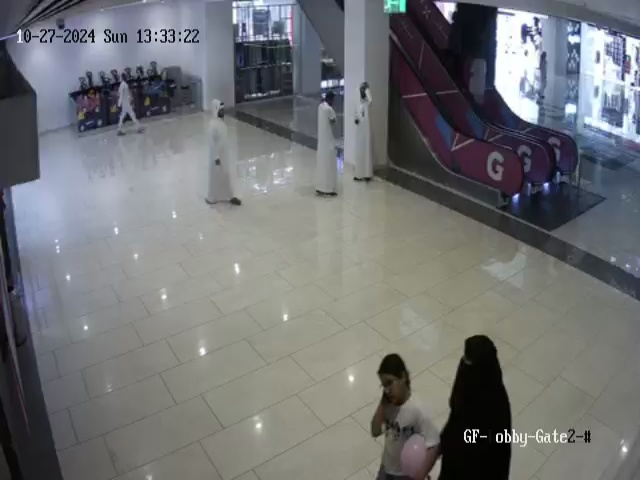female: (436, 334, 513, 480), (370, 353, 440, 480)
male: (204, 101, 242, 206), (315, 91, 339, 198), (116, 73, 145, 136)
